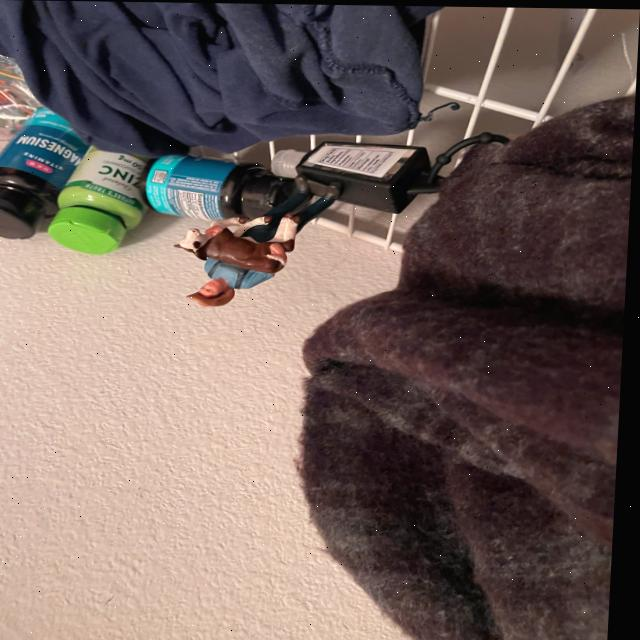cow: (180, 219, 298, 276)
person: (189, 254, 277, 321)
